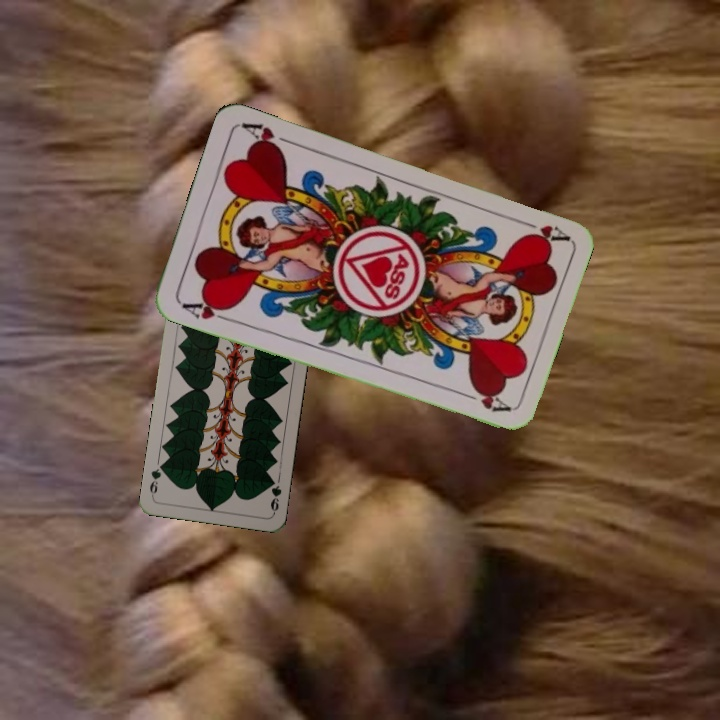G9: (266, 475, 284, 516)
HA: (512, 215, 570, 247), (177, 295, 235, 324)
